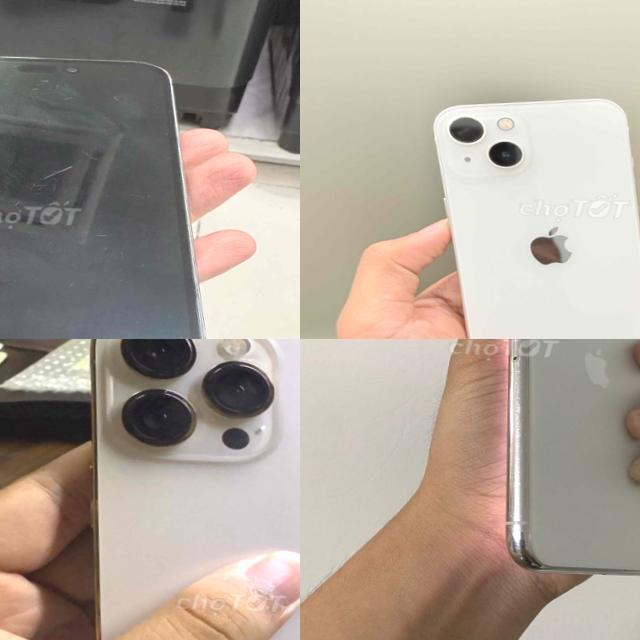gen_11: (475, 339, 640, 595)
gen_12_13: (68, 339, 300, 640), (417, 88, 640, 339)
gen_14: (0, 32, 242, 339)
scratch: (0, 61, 150, 113), (506, 339, 528, 555), (13, 146, 88, 205), (70, 224, 145, 272), (116, 186, 176, 207)
